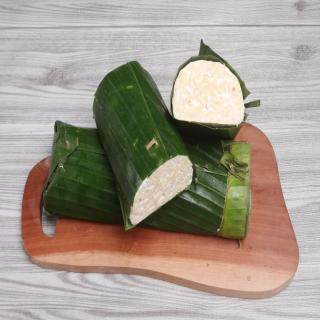Tempe: (23, 40, 300, 298), (129, 154, 194, 228)
